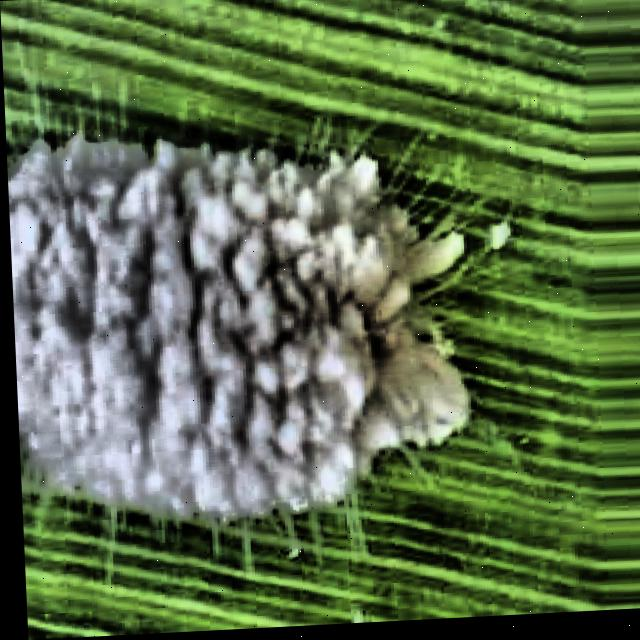Mealy-bug: (4, 86, 563, 578)
